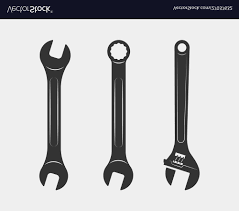Wrench: (162, 38, 209, 193), (35, 35, 76, 194), (100, 37, 140, 191)
